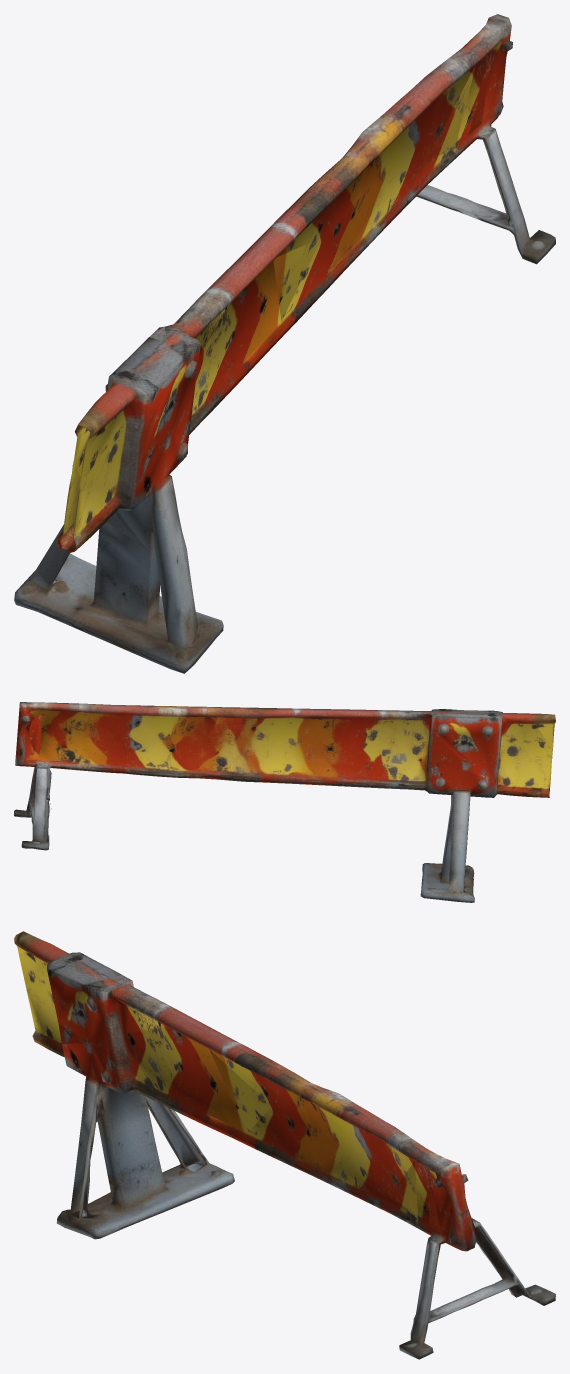
Rendered from barrier.glb.
The picture shows the model from 3 angles, top to bottom: view 1: azimuth 30°, elevation 25°; view 2: azimuth 150°, elevation 25°; view 3: azimuth 270°, elevation 25°; orthographic projection. The views are drawn at different scales.
Visible parts, largest first — view 1: RETOPO; view 2: RETOPO; view 3: RETOPO.
Part boxes in pixels (x1,y1,x2,y2): RETOPO: (14,14,555,673); RETOPO: (14,702,555,902); RETOPO: (14,931,555,1359).
Bounding box in the file's own units: 0.8934 × 0.4053 × 0.7079.
1 material, 1 textured.
